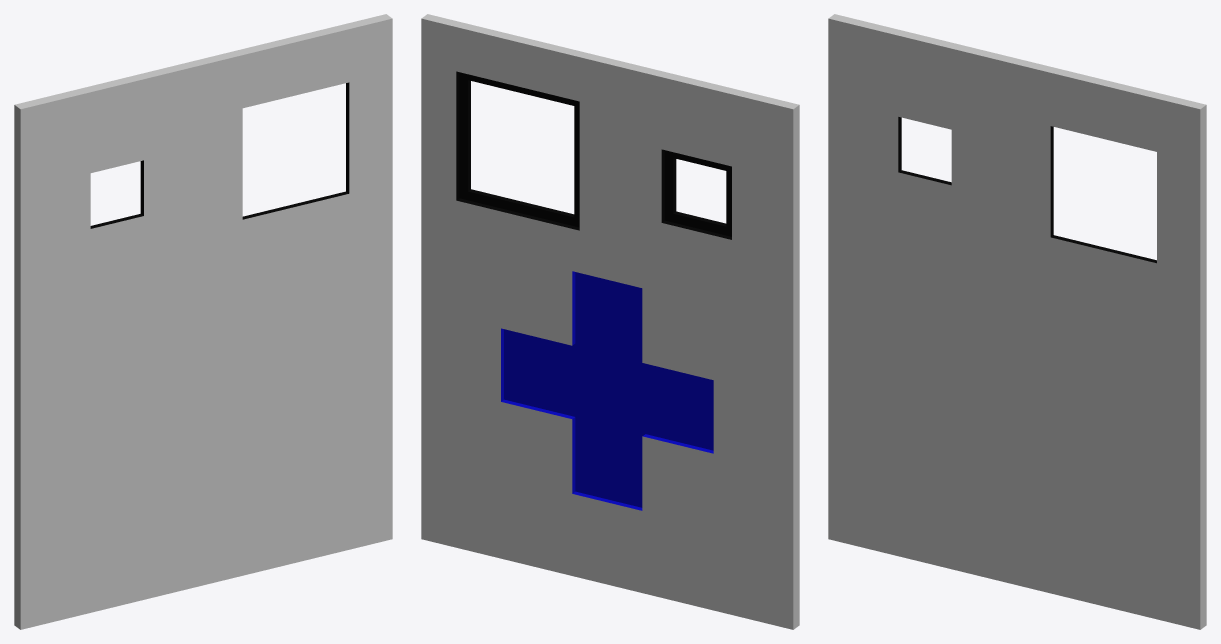
The model's file is blue_cruciform.dae.
3 renders of one model, left to right at view 1: azimuth 30°, elevation 25°; view 2: azimuth 150°, elevation 25°; view 3: azimuth 330°, elevation 25°, orthographic.
Parts seen in each view (by area): view 1: ShapeIndexedFaceSet; view 2: ShapeIndexedFaceSet; view 3: ShapeIndexedFaceSet.
Boxes of the visible parts, x1,y1,x2,y2 form: ShapeIndexedFaceSet: (14, 14, 392, 629); ShapeIndexedFaceSet: (421, 14, 799, 629); ShapeIndexedFaceSet: (828, 14, 1206, 629).
Bounding box in the file's own units: 1.75 × 0.0508 × 2.34.
